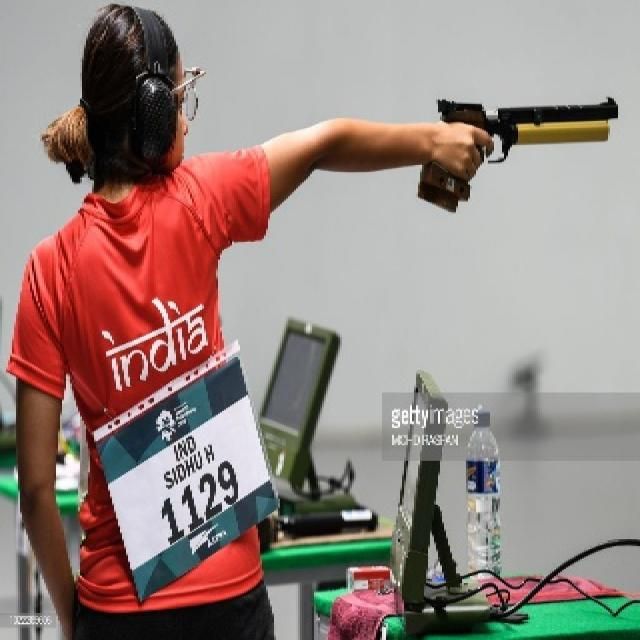weapon: (412, 95, 620, 215)
